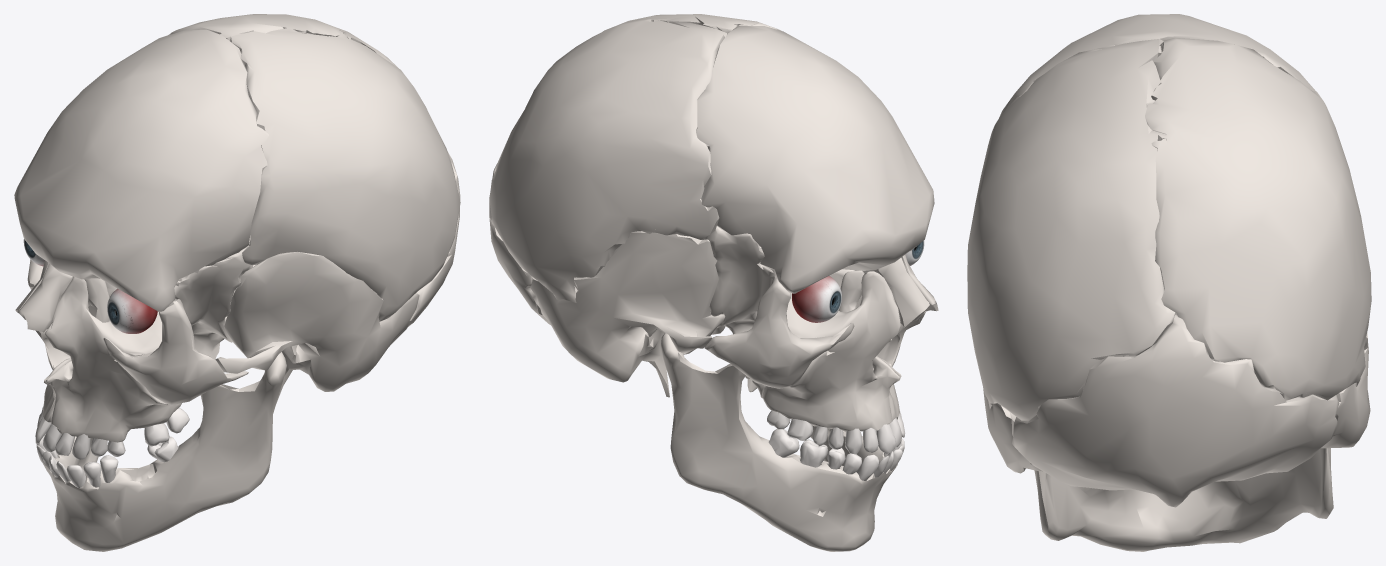
File: skull.glb
The picture shows the model from 3 angles, left to right: view 1: azimuth 30°, elevation 25°; view 2: azimuth 150°, elevation 25°; view 3: azimuth 270°, elevation 25°; orthographic projection. The views are drawn at different scales.
Parts seen in each view (by area): view 1: Frontal bone, Pareital bone, Mandible, Temporal bone, Maxilla, Zygomatic bone, Sphenoid bone, Upper teeth, Lower teeth, Nasal bone, Eyes.001, Occipital bone (+1 smaller); view 2: Pareital bone, Frontal bone, Mandible, Temporal bone, Maxilla, Zygomatic bone, Sphenoid bone, Upper teeth, Lower teeth, Nasal bone, Eyes.001, Occipital bone (+1 smaller); view 3: Pareital bone, Occipital bone, Mandible, Frontal bone, Temporal bone.
Part boxes in pixels (x1,y1,x2,y2): Frontal bone: (14,29,268,311); Pareital bone: (169,14,460,321); Mandible: (43,352,286,551); Temporal bone: (215,235,419,403); Maxilla: (36,276,181,442); Zygomatic bone: (27,259,248,404); Sphenoid bone: (174,247,253,359); Upper teeth: (35,406,189,459); Lower teeth: (36,434,178,487); Nasal bone: (15,260,72,332); Eyes.001: (23,239,157,333); Occipital bone: (240,152,460,326); Pareital bone: (489,14,780,302); Frontal bone: (696,25,934,293); Mandible: (660,333,897,551); Temporal bone: (530,225,761,397); Maxilla: (762,271,925,431); Zygomatic bone: (704,275,854,388); Sphenoid bone: (705,226,774,392); Upper teeth: (767,410,905,454); Lower teeth: (768,429,904,480); Nasal bone: (878,255,938,327); Eyes.001: (792,240,924,322); Occipital bone: (489,163,725,354); Pareital bone: (967,38,1371,420); Occipital bone: (1012,314,1339,507); Mandible: (1034,448,1333,551); Frontal bone: (999,14,1315,118); Temporal bone: (983,333,1370,473).
Bounding box in the file's own units: 25.79 × 28.04 × 17.28.
Materials: 4 (2 with a texture image).
